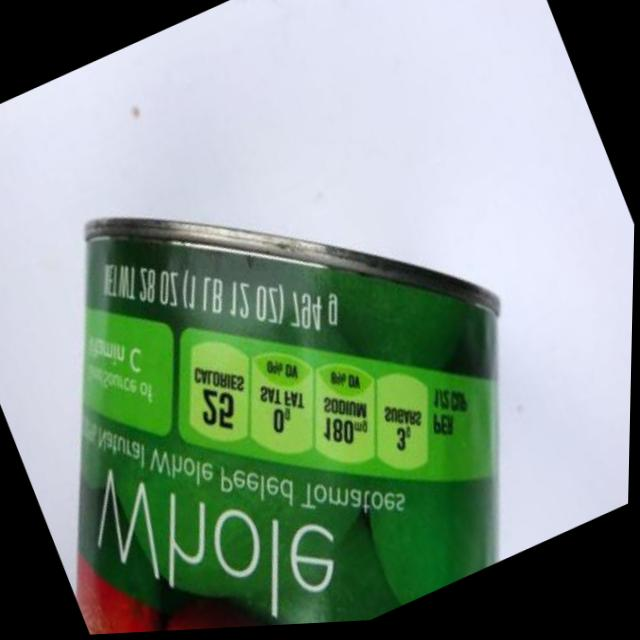metal: (0, 106, 498, 639)
